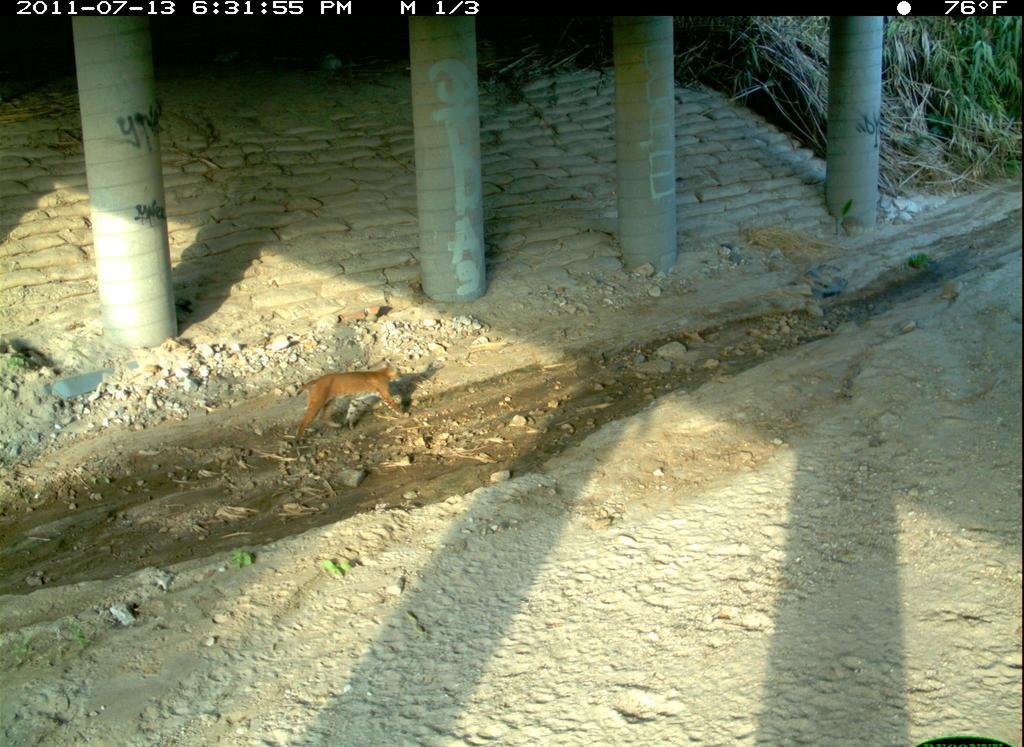bobcat: (580, 711, 825, 747)
